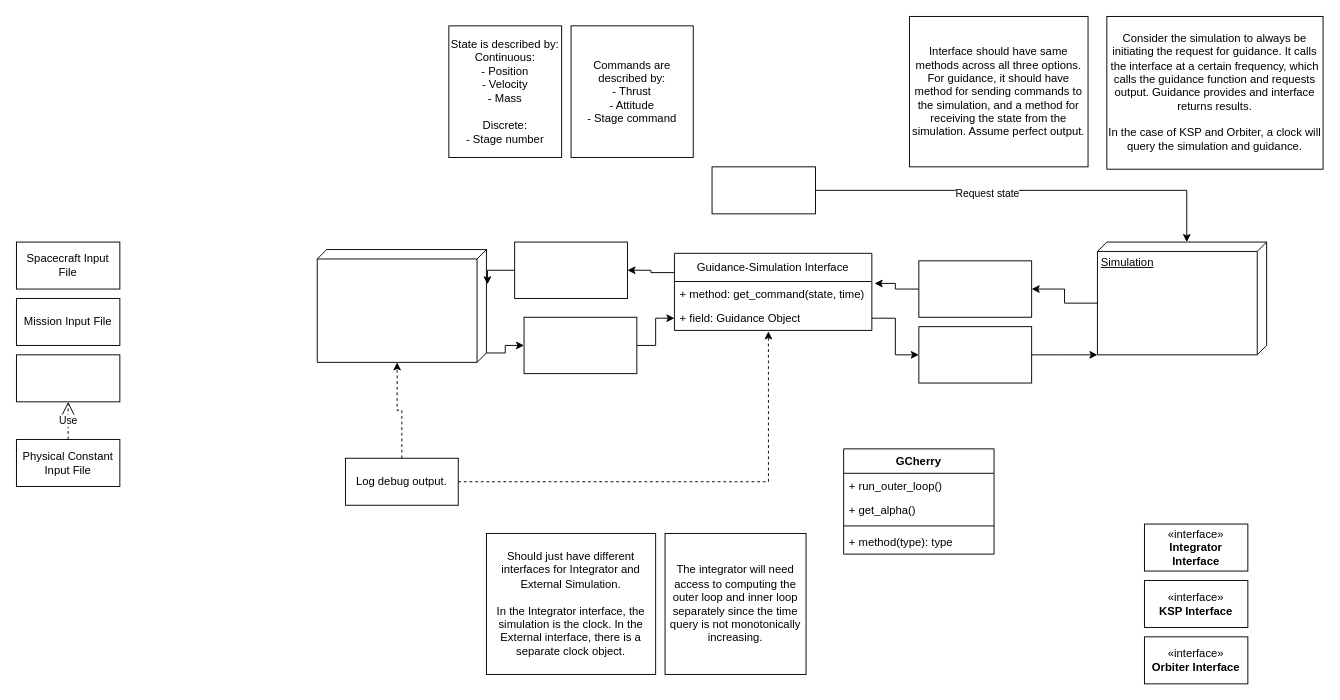
Some shapes in this 1340 by 700 pixel diagram are drawn without their labels. Here are the shapes that lost their labels. From the top down, the centre of each, then its label:
At [763,190]: "Clock".
At [570,269]: "Convert state to guidance format.".
At [975,288]: "Convert state to interface format.".
At [401,305]: "Guidance".
At [580,345]: "Convert command to interface format.".
At [975,354]: "Convert command to simulation format".
At [68,378]: "Interface Config File".
